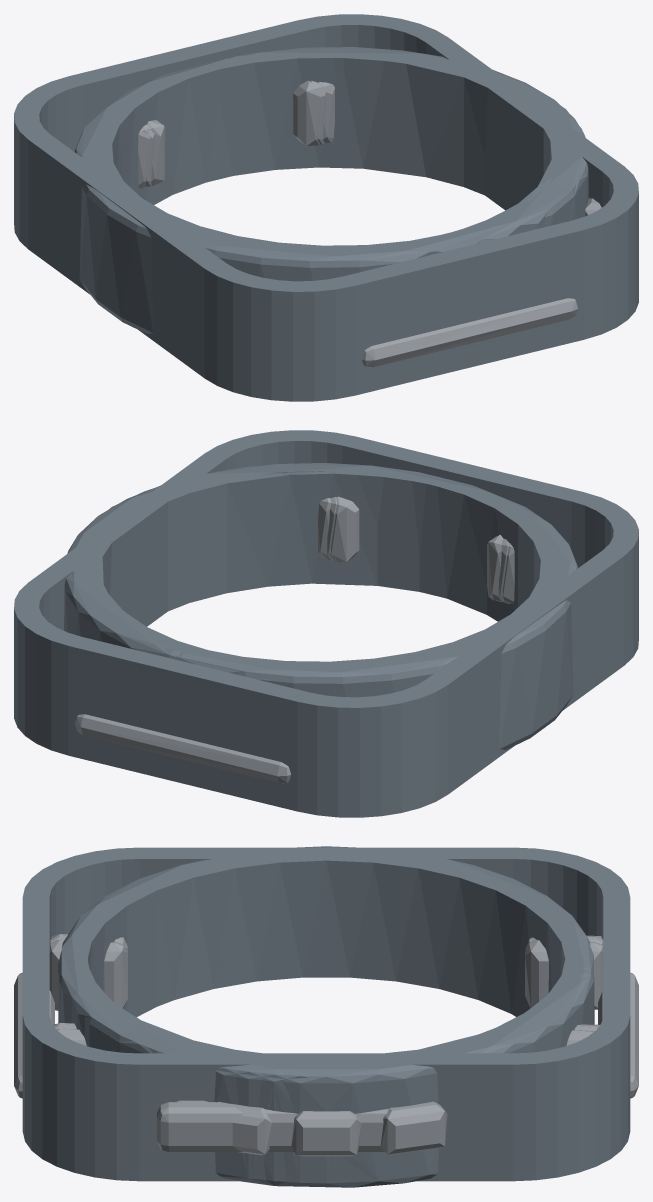
File: reloj_variantes.glb
3 views of the same model, one above another, from view 1: azimuth 30°, elevation 25°; view 2: azimuth 150°, elevation 25°; view 3: azimuth 270°, elevation 25° (orthographic). The views are drawn at different scales.
Parts seen in each view (by area): view 1: caja_reloj_dato@cuadrada_c1, caja_reloj_dato@redonda_s1, caja_reloj_dato@redonda_c1, caja_reloj_dato@redonda_c2, caja_reloj_dato@redonda_s2; view 2: caja_reloj_dato@cuadrada_c1, caja_reloj_dato@redonda_s1, caja_reloj_dato@redonda_c1, caja_reloj_dato@redonda_c2, caja_reloj_dato@redonda_s2; view 3: caja_reloj_dato@cuadrada_c1, caja_reloj_dato@redonda_c1, caja_reloj_dato@redonda_c2, caja_reloj_dato@redonda_s1, caja_reloj_dato@redonda_s2, caja_reloj_dato@cuadrada_c2, caja_reloj_dato@cuadrada_s2, caja_reloj_dato@redonda_s0.
Boxes of the visible parts, x1,y1,x2,y2 form: caja_reloj_dato@cuadrada_c1: (14, 14, 638, 401); caja_reloj_dato@redonda_s1: (74, 56, 570, 333); caja_reloj_dato@redonda_c1: (102, 47, 601, 249); caja_reloj_dato@redonda_c2: (101, 47, 588, 249); caja_reloj_dato@redonda_s2: (102, 54, 553, 265); caja_reloj_dato@cuadrada_c1: (14, 430, 638, 817); caja_reloj_dato@redonda_s1: (84, 468, 578, 749); caja_reloj_dato@redonda_c1: (75, 463, 548, 664); caja_reloj_dato@redonda_c2: (64, 463, 550, 664); caja_reloj_dato@redonda_s2: (105, 468, 551, 681); caja_reloj_dato@cuadrada_c1: (14, 847, 638, 1181); caja_reloj_dato@redonda_c1: (49, 859, 603, 1178); caja_reloj_dato@redonda_c2: (51, 859, 603, 1187); caja_reloj_dato@redonda_s1: (49, 846, 603, 1156); caja_reloj_dato@redonda_s2: (49, 860, 603, 1155); caja_reloj_dato@cuadrada_c2: (157, 886, 567, 1151); caja_reloj_dato@cuadrada_s2: (105, 879, 388, 1151); caja_reloj_dato@redonda_s0: (264, 1082, 369, 1185).
Bounding box in the file's own units: 4.83 × 1.1 × 5.35.
